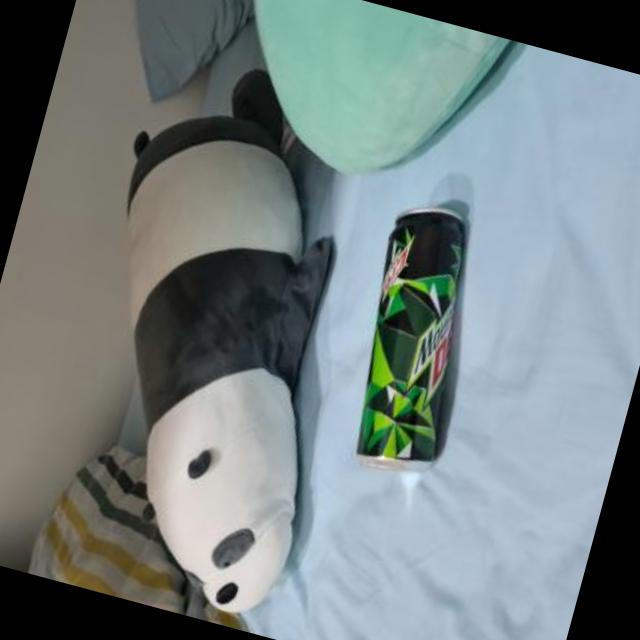metal: (352, 210, 459, 469)
